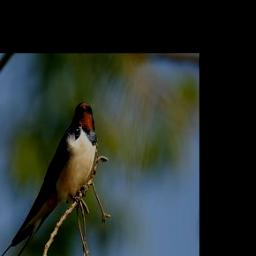Swallow: (0, 100, 95, 256)
